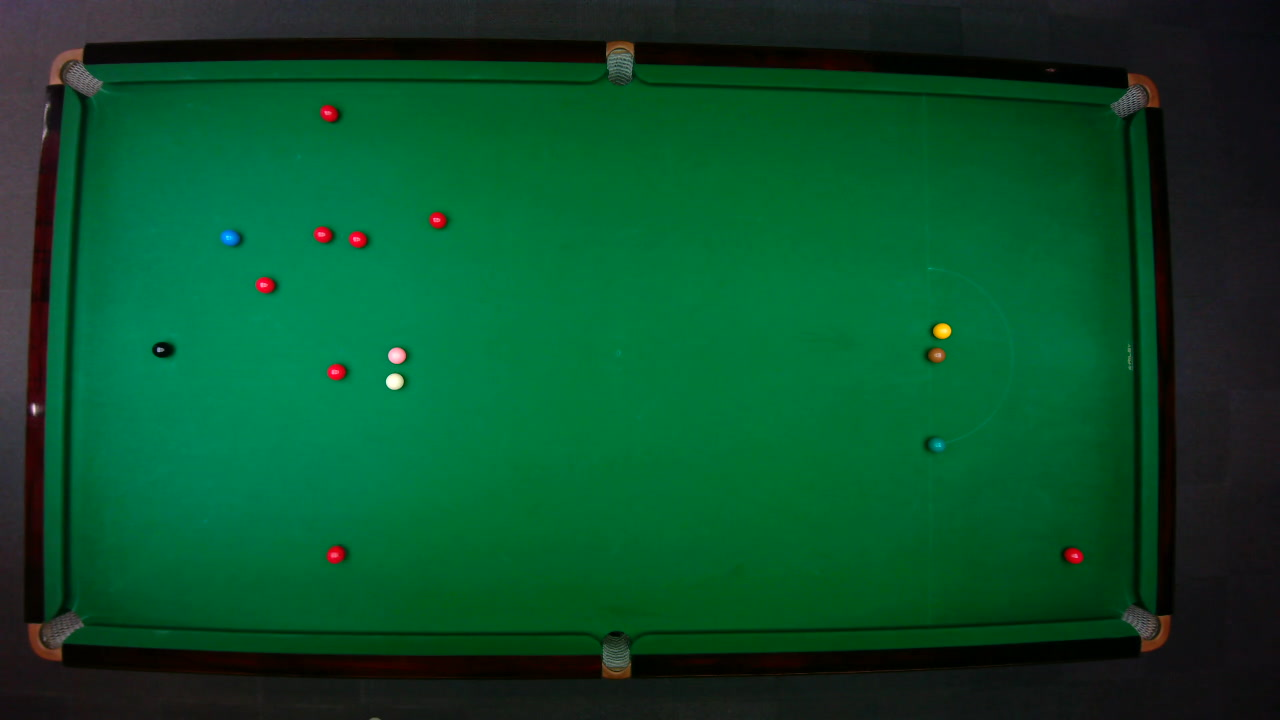bag: (25, 609, 84, 660), (47, 47, 103, 97), (1118, 602, 1171, 651), (1108, 72, 1160, 118), (601, 629, 630, 679), (605, 39, 633, 86)
black: (150, 340, 172, 358)
blue: (218, 228, 240, 246)
brown: (926, 346, 945, 363)
green: (926, 435, 945, 453)
pink: (386, 345, 407, 364)
red: (324, 543, 347, 563), (1061, 545, 1085, 564), (318, 103, 339, 122), (325, 362, 347, 380), (254, 275, 275, 293), (347, 229, 367, 247), (312, 225, 332, 243), (427, 210, 447, 228)
white: (384, 371, 405, 390)
yellow: (931, 321, 952, 339)
zone: (926, 265, 1013, 444)
